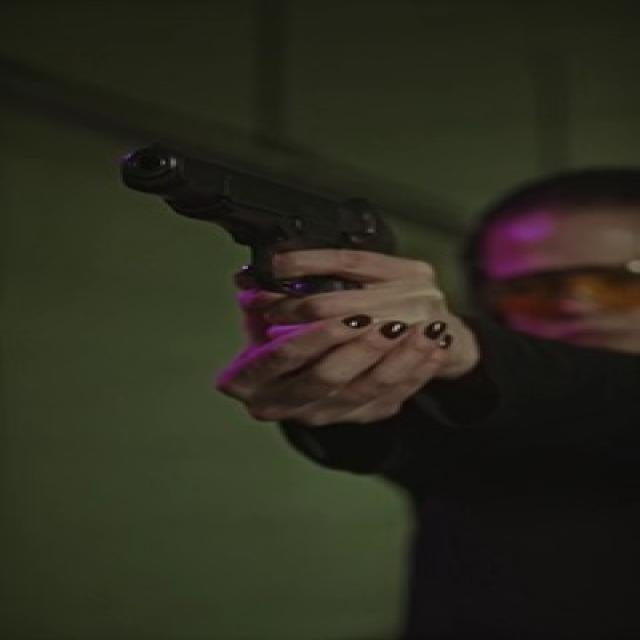Gun_Holder: (75, 130, 487, 423)
Person: (277, 123, 640, 640)
